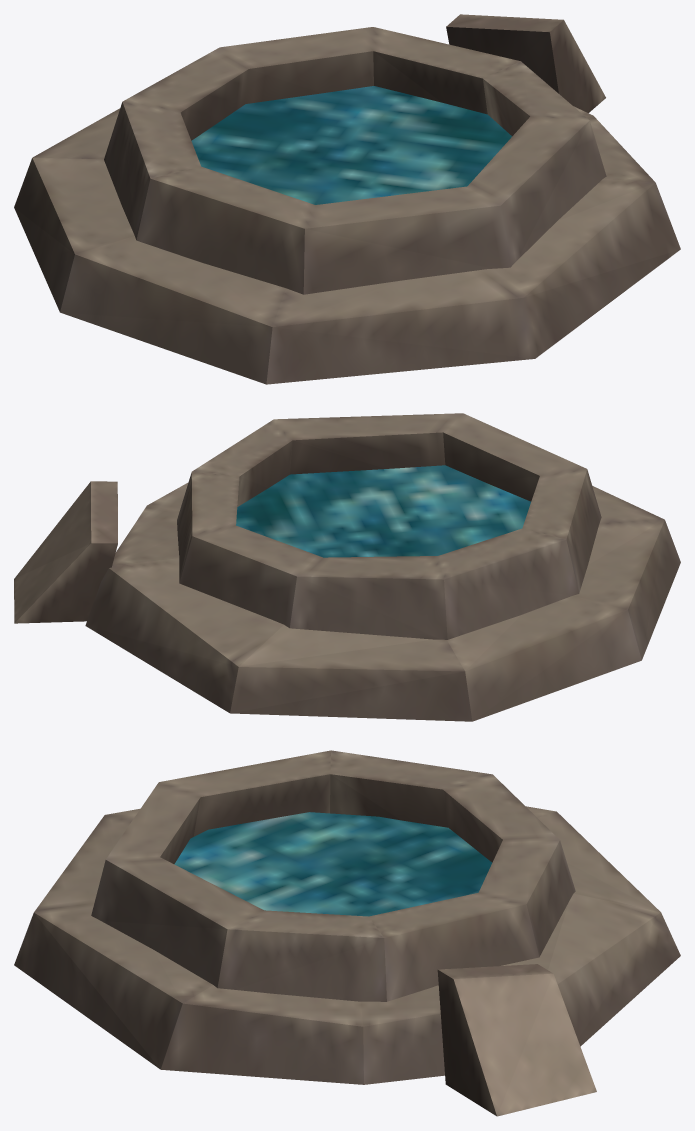
The model's file is Area_11_40.fbx.
3 renders of one model, top to bottom at view 1: azimuth 30°, elevation 25°; view 2: azimuth 150°, elevation 25°; view 3: azimuth 270°, elevation 25°, orthographic. The views are drawn at different scales.
Visible parts, largest first — view 1: Area_11_40; view 2: Area_11_40; view 3: Area_11_40.
Boxes of the visible parts, x1,y1,x2,y2 form: Area_11_40: [14, 14, 680, 384]; Area_11_40: [14, 413, 680, 721]; Area_11_40: [14, 750, 680, 1116].
Bounding box in the file's own units: 294 × 52.41 × 279.
